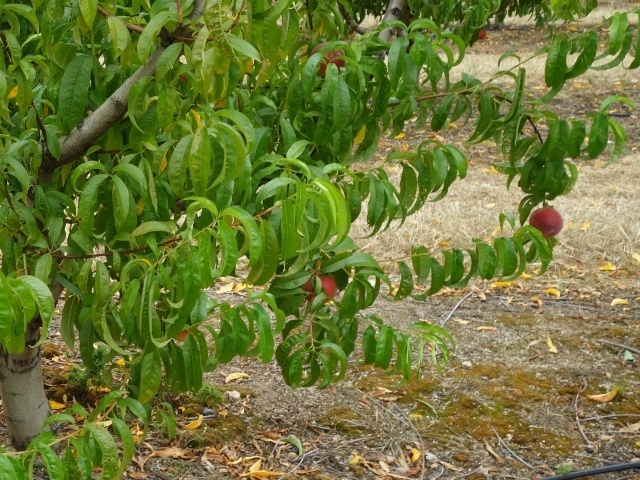peach: (526, 202, 567, 242), (308, 37, 347, 78), (301, 268, 339, 305)
